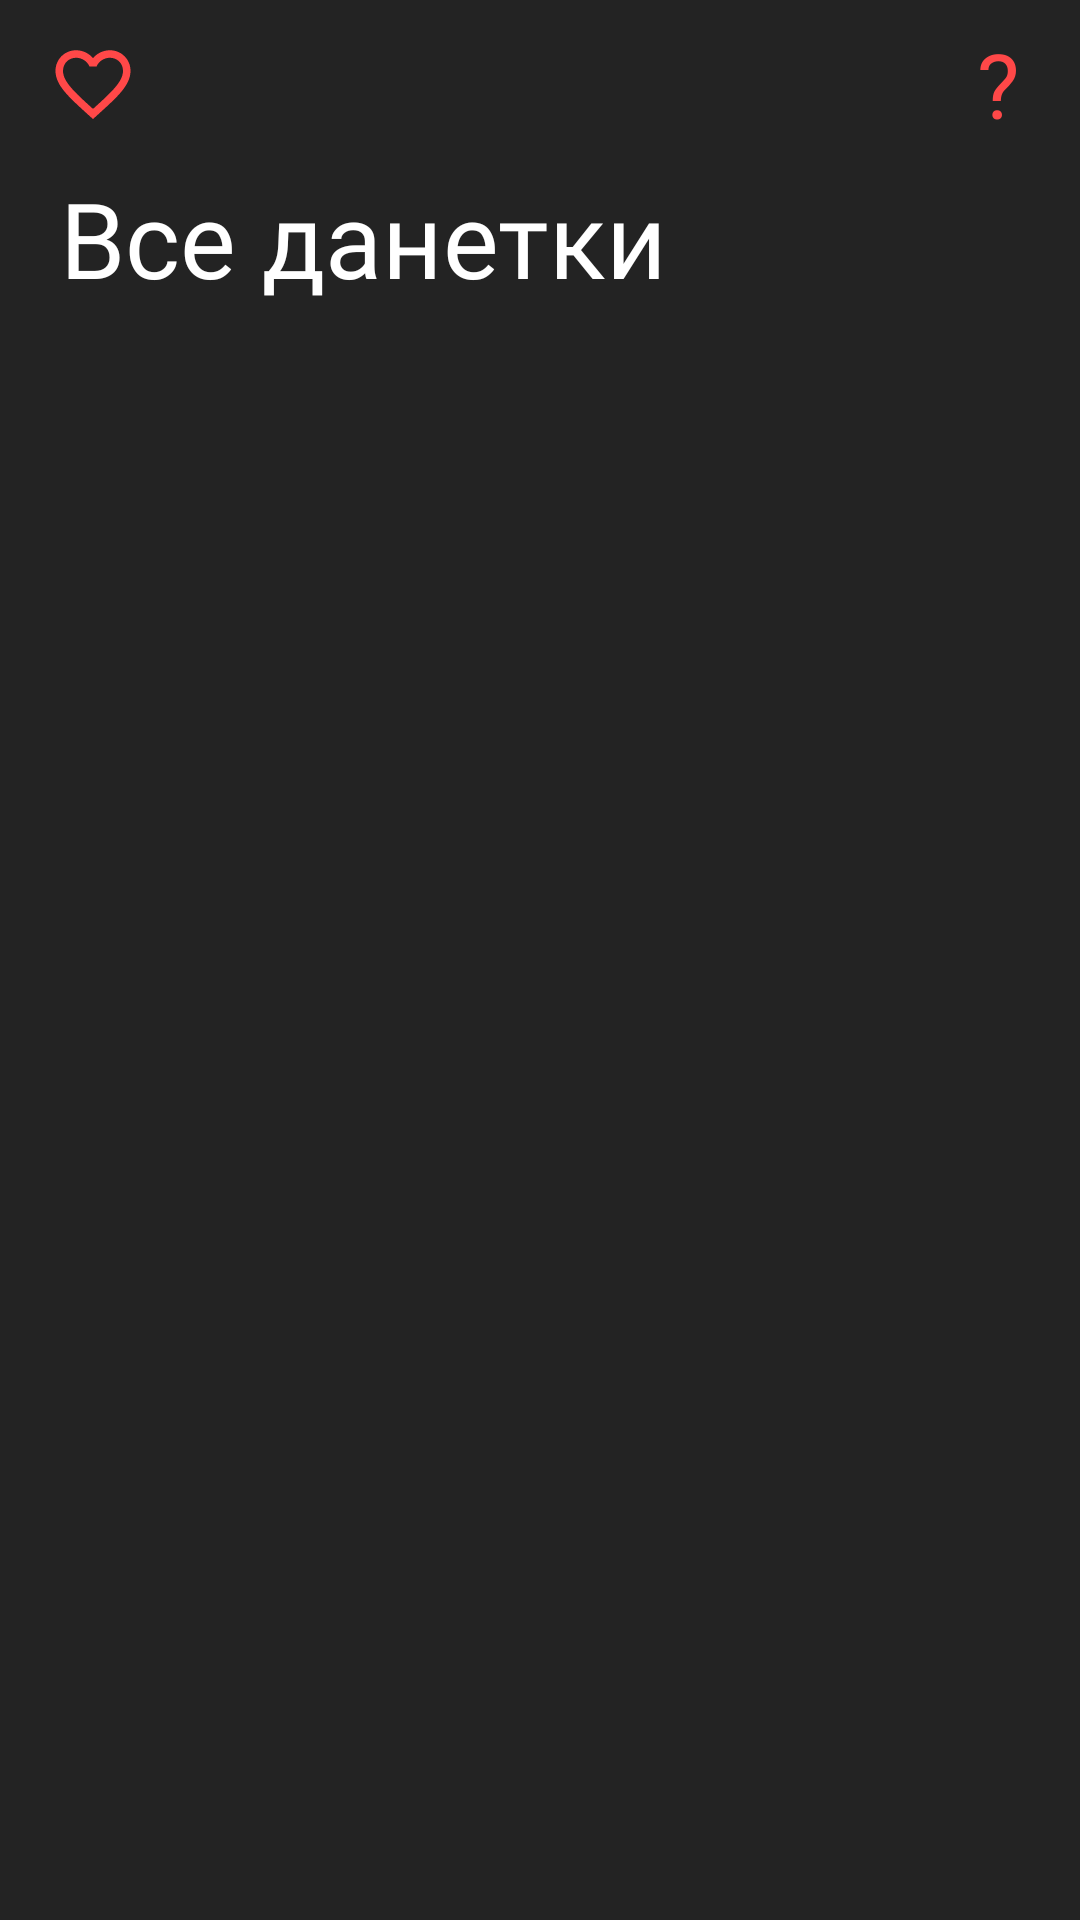

Screen size 1080*1920. Icon name, then its center in pixels as (x=x, y=y):
favorites: (x=93, y=84)
